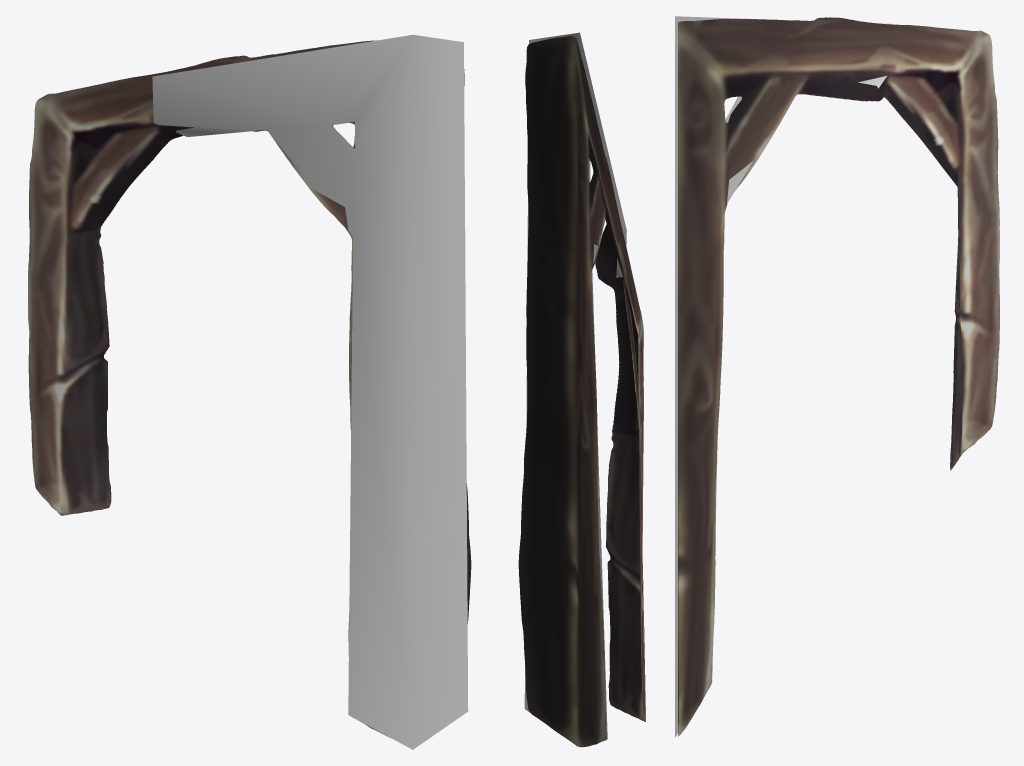
File: Mine Support.FBX
3 renders of one model, left to right at view 1: azimuth 30°, elevation 25°; view 2: azimuth 150°, elevation 25°; view 3: azimuth 270°, elevation 25°, orthographic.
Visible parts, largest first — view 1: Mine Support Mask, Mine Support; view 2: Mine Support, Mine Support Mask; view 3: Mine Support, Mine Support Mask.
Boxes of the visible parts, bbox=[...] form: Mine Support Mask: bbox=[152, 34, 468, 749]; Mine Support: bbox=[28, 40, 471, 737]; Mine Support: bbox=[518, 36, 645, 747]; Mine Support Mask: bbox=[524, 32, 626, 747]; Mine Support: bbox=[678, 17, 999, 736]; Mine Support Mask: bbox=[675, 16, 890, 737].
Size of the model in its own units: 250 by 237 by 570.
